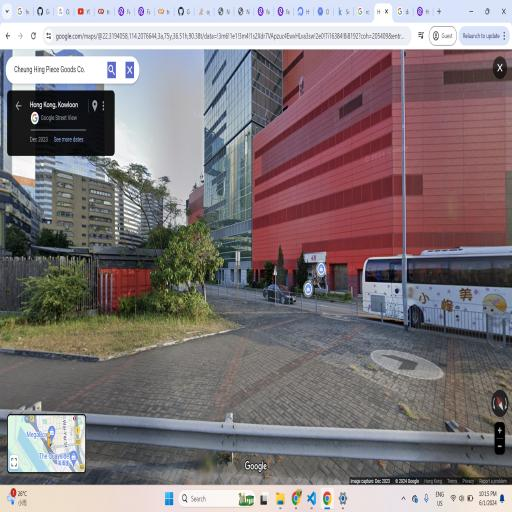Roads: (7, 283, 510, 438)
Trees: (152, 210, 223, 343), (16, 259, 94, 327)
